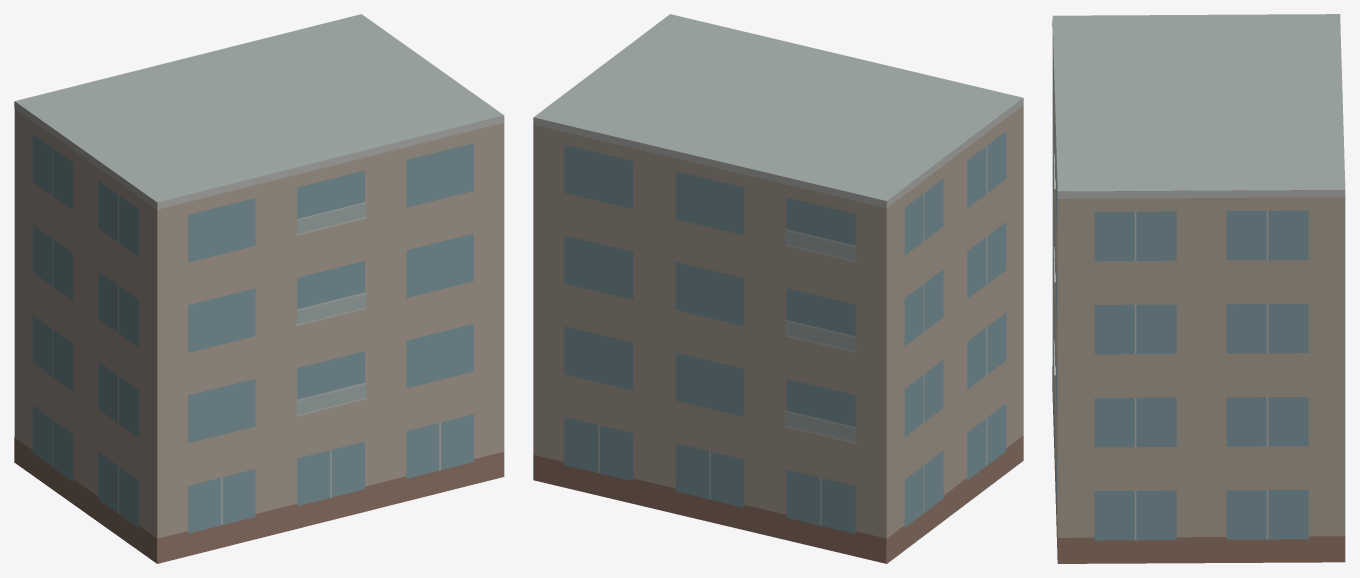
File: residential-df820fc4-3a99-4202-836a-bb308be27660.glb
3 views of the same model, side by side, from view 1: azimuth 30°, elevation 25°; view 2: azimuth 150°, elevation 25°; view 3: azimuth 270°, elevation 25° (orthographic). The views are drawn at different scales.
Visible parts, largest first — view 1: residential-df820fc4-3a99-4202-836a-bb308be27660.tmp; view 2: residential-df820fc4-3a99-4202-836a-bb308be27660.tmp; view 3: residential-df820fc4-3a99-4202-836a-bb308be27660.tmp.
Part boxes in pixels (x1,y1,x2,y2): residential-df820fc4-3a99-4202-836a-bb308be27660.tmp: (14, 14, 504, 563); residential-df820fc4-3a99-4202-836a-bb308be27660.tmp: (533, 14, 1023, 563); residential-df820fc4-3a99-4202-836a-bb308be27660.tmp: (1052, 14, 1345, 563).
Size of the model in its own units: 12.47 by 12.2 by 8.71.
